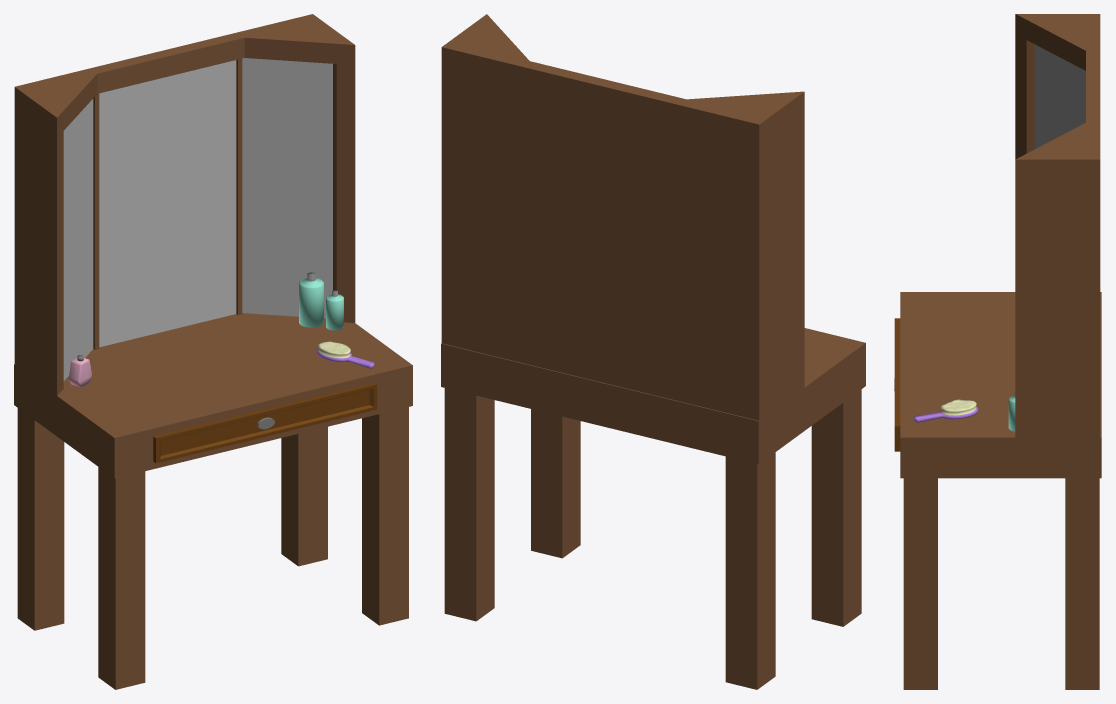
File: vanity.fbx
3 renders of one model, left to right at view 1: azimuth 30°, elevation 25°; view 2: azimuth 150°, elevation 25°; view 3: azimuth 270°, elevation 25°, orthographic. The views are drawn at different scales.
Parts seen in each view (by area): view 1: Vanity; view 2: Vanity; view 3: Vanity.
Boxes of the visible parts, x1,y1,x2,y2 form: Vanity: [14, 14, 412, 689]; Vanity: [441, 14, 865, 689]; Vanity: [894, 14, 1101, 689].
Bounding box in the file's own units: 113 × 68.03 × 193.
